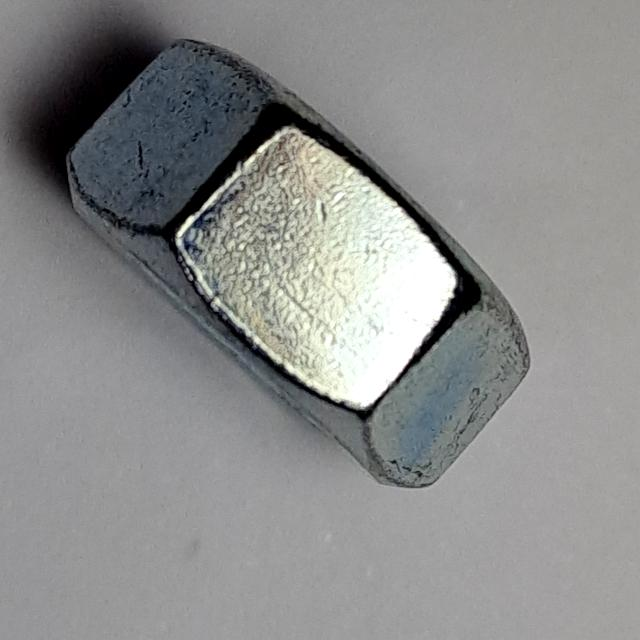Side_Excellent: (55, 23, 549, 503)
